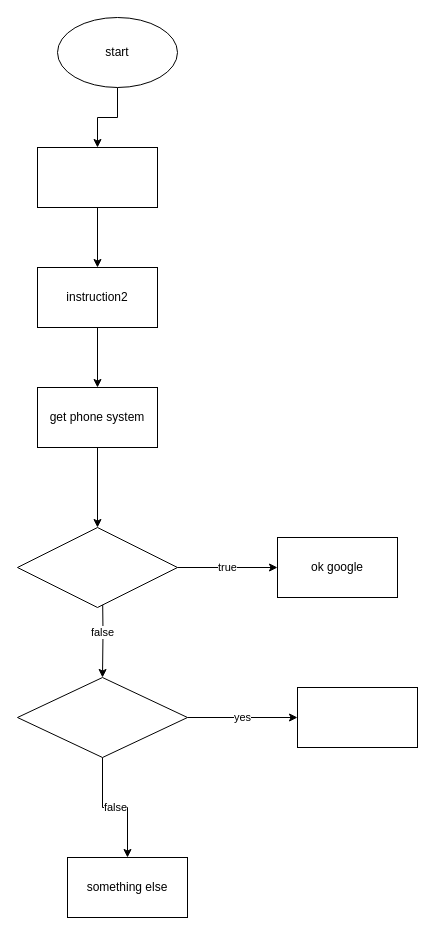
Image size: 435x935. Some labels were removed from this diagram. The centre of each missing label's shape, as x and y in pixels:
instruction1: point (97, 177)
phone = android: point (97, 567)
phone =ios?: point (102, 717)
